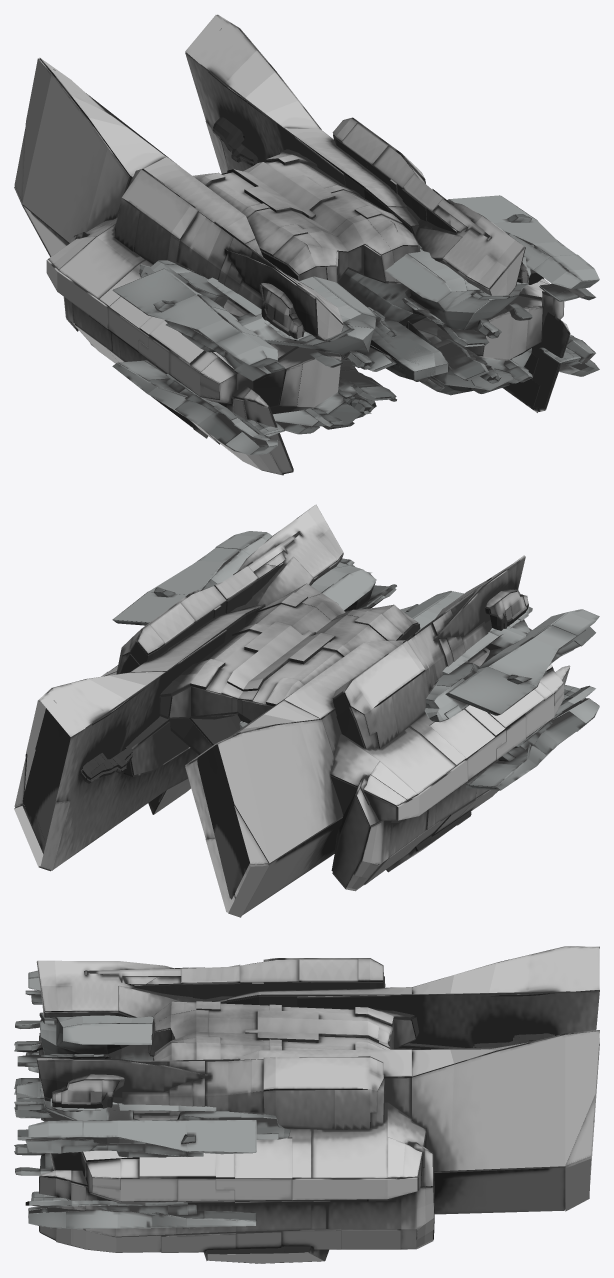
File: Cruiser004.fbx
3 views of the same model, one above another, from view 1: azimuth 30°, elevation 25°; view 2: azimuth 150°, elevation 25°; view 3: azimuth 270°, elevation 25° (orthographic). The views are drawn at different scales.
Parts seen in each view (by area): view 1: Cruiser004; view 2: Cruiser004; view 3: Cruiser004.
Part boxes in pixels (x1,y1,x2,y2): Cruiser004: (14, 14, 599, 475); Cruiser004: (14, 504, 599, 917); Cruiser004: (14, 946, 599, 1263).
Size of the model in its own units: 47.14 by 26.4 by 63.79.
